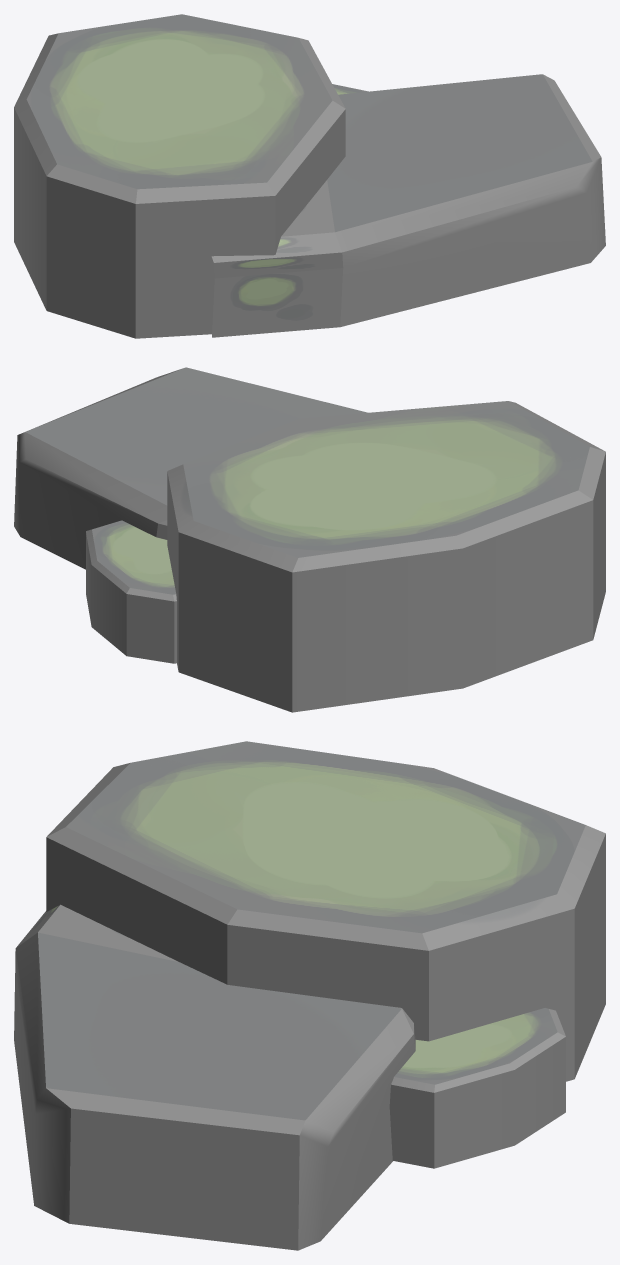
The model's file is Platform_Rock2.fbx.
3 renders of one model, top to bottom at view 1: azimuth 30°, elevation 25°; view 2: azimuth 150°, elevation 25°; view 3: azimuth 270°, elevation 25°, orthographic. The views are drawn at different scales.
Visible parts, largest first — view 1: Banana1; view 2: Banana1; view 3: Banana1.
Part boxes in pixels (x1,y1,x2,y2): Banana1: (14,14,605,338); Banana1: (14,367,605,712); Banana1: (14,741,605,1250).
Size of the model in its own units: 490 by 138 by 371.
Materials: 2 (2 with a texture image).
